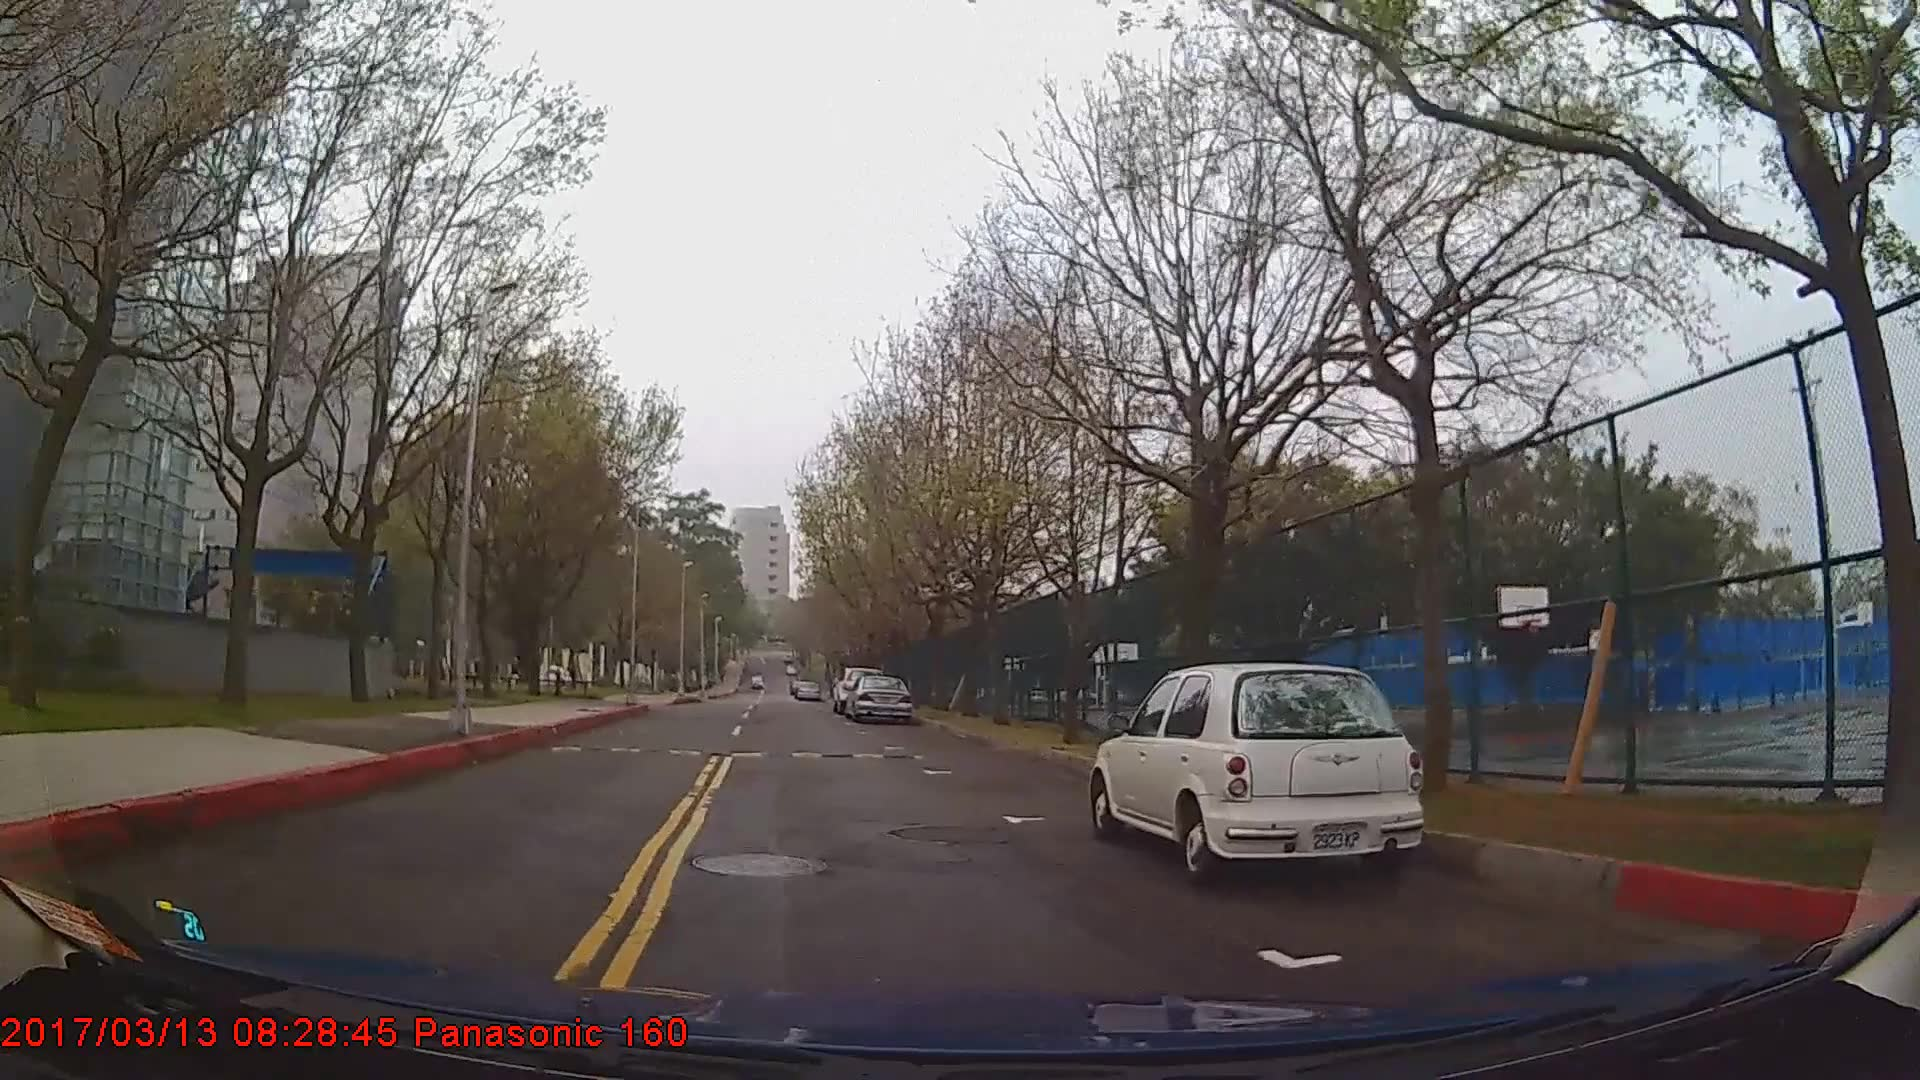vehicle: (1087, 659, 1425, 887), (843, 673, 913, 721)
